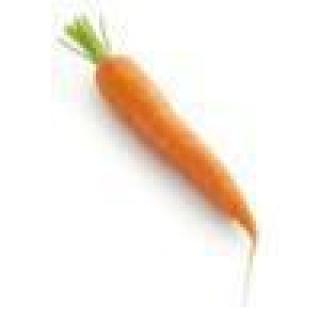Wortel: (30, 1, 292, 305)
